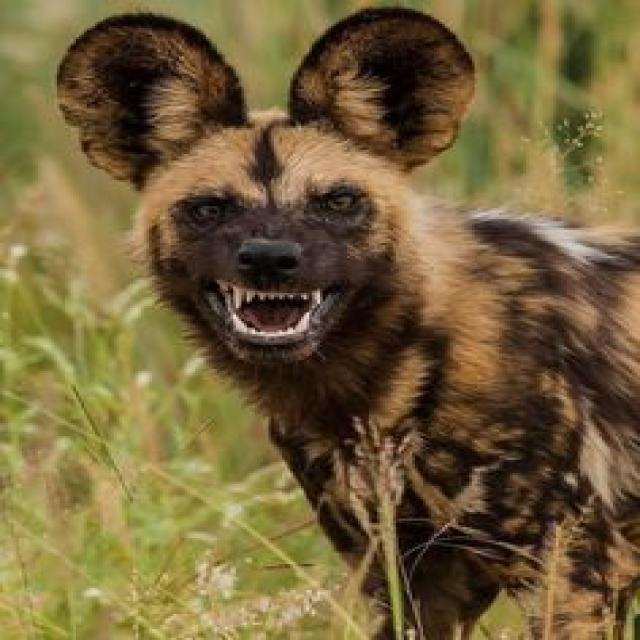Carnivorous: (57, 9, 640, 640)
